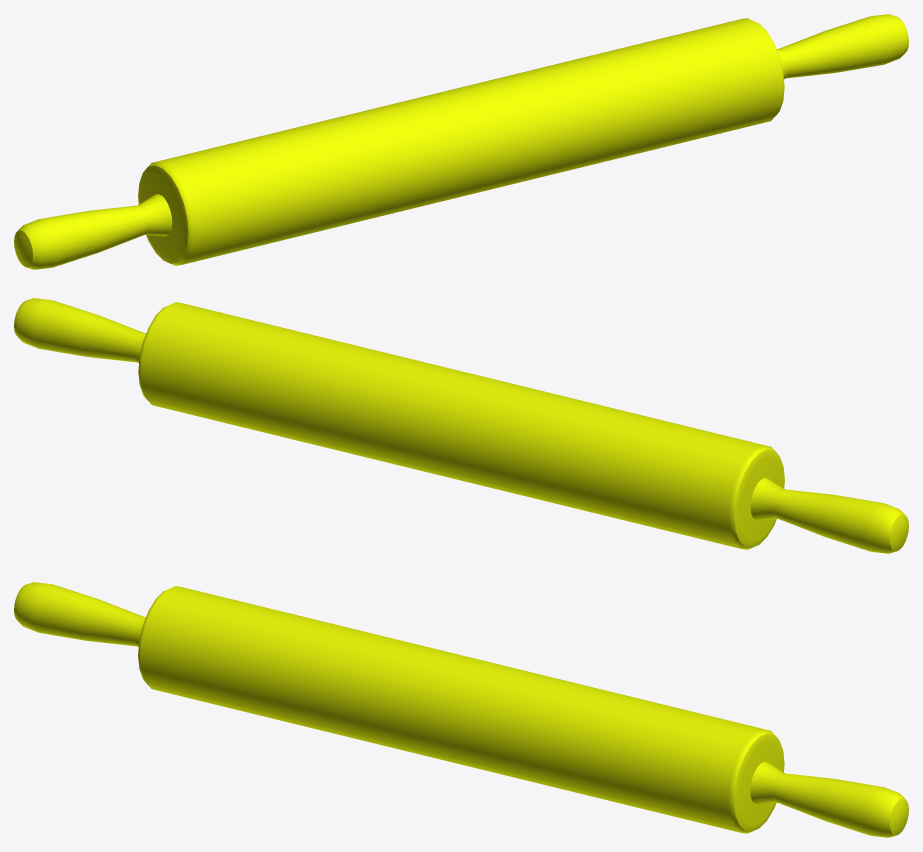
The model's file is Rolling_Pin.fbx.
The picture shows the model from 3 angles, top to bottom: view 1: azimuth 30°, elevation 25°; view 2: azimuth 150°, elevation 25°; view 3: azimuth 330°, elevation 25°; orthographic projection.
Parts seen in each view (by area): view 1: rolling_pin, rolling_pin_handle_2, rolling_pin_handle_1; view 2: rolling_pin, rolling_pin_handle_2, rolling_pin_handle_1; view 3: rolling_pin, rolling_pin_handle_1, rolling_pin_handle_2.
Part boxes in pixels (bbox=[...]): rolling_pin: bbox=[138, 18, 784, 265]; rolling_pin_handle_2: bbox=[14, 194, 172, 269]; rolling_pin_handle_1: bbox=[776, 14, 908, 78]; rolling_pin: bbox=[138, 302, 784, 549]; rolling_pin_handle_2: bbox=[750, 478, 908, 553]; rolling_pin_handle_1: bbox=[14, 298, 146, 362]; rolling_pin: bbox=[138, 586, 784, 833]; rolling_pin_handle_1: bbox=[750, 762, 908, 837]; rolling_pin_handle_2: bbox=[14, 582, 145, 646].
Size of the model in its own units: 0.9416 by 0.0993 by 0.0993.
